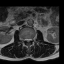CCS_normal: (27, 36, 29, 44)
LFS_normal: (31, 36, 33, 42)
LLS_normal: (29, 36, 31, 43)
RFS_normal: (23, 36, 25, 42)
RLS_normal: (25, 36, 27, 43)
